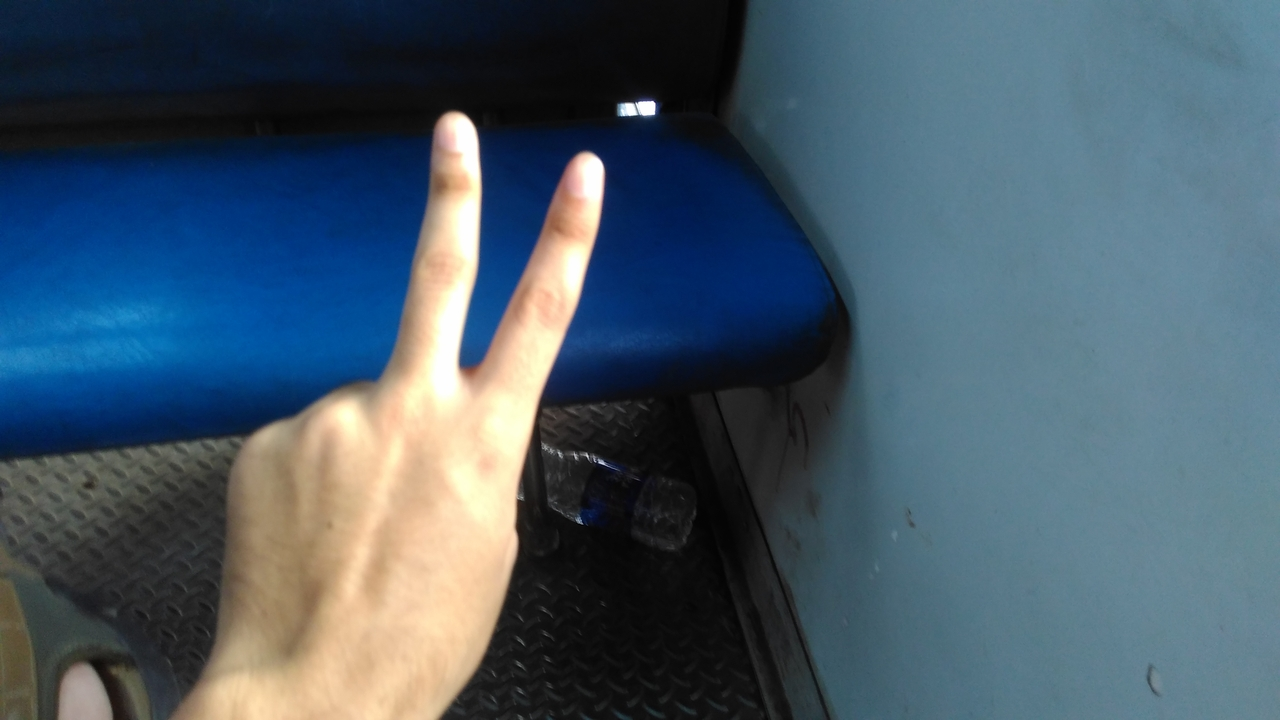fingertip: (544, 138, 612, 206), (422, 100, 480, 158)
